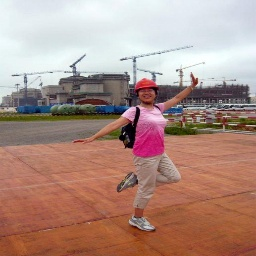helmet: (131, 77, 162, 93)
no-vest: (124, 107, 174, 156)
person: (110, 76, 181, 236)
